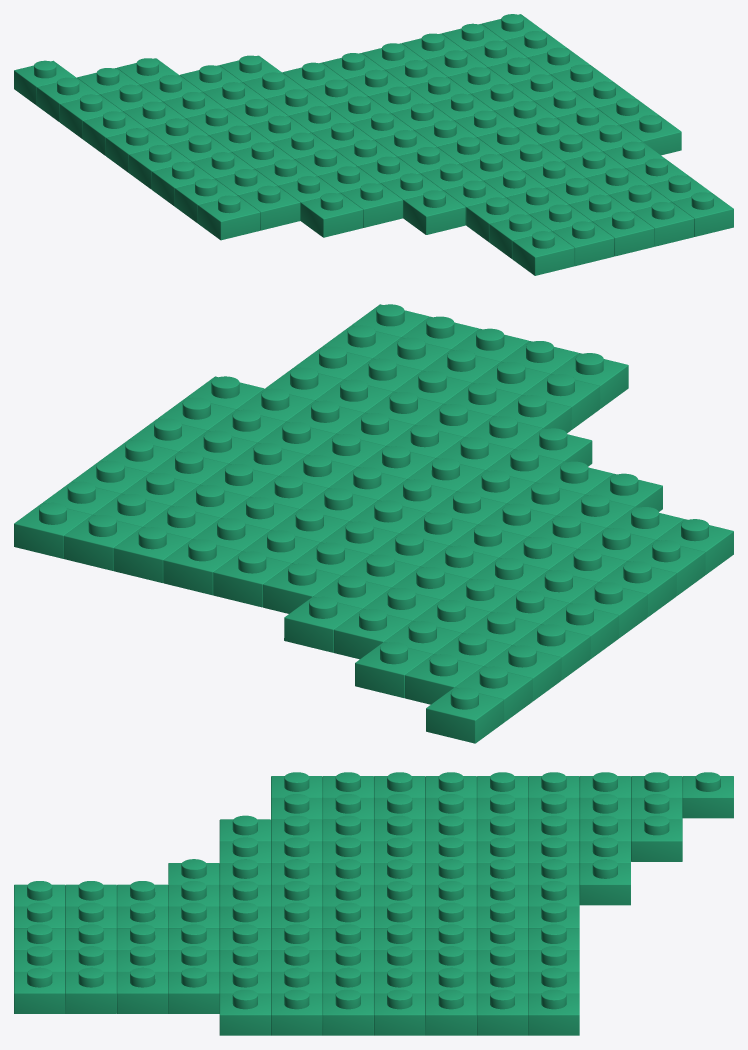
File: Ontario.fbx
The picture shows the model from 3 angles, top to bottom: view 1: azimuth 30°, elevation 25°; view 2: azimuth 150°, elevation 25°; view 3: azimuth 270°, elevation 25°; orthographic projection. The views are drawn at different scales.
Parts seen in each view (by area): view 1: Cylinder_18; view 2: Cylinder_18; view 3: Cylinder_18.
Part boxes in pixels (x1=…): Cylinder_18: x1=14, y1=14, x2=733, y2=275; Cylinder_18: x1=14, y1=304, x2=733, y2=743; Cylinder_18: x1=14, y1=772, x2=733, y2=1035.
Bounding box in the file's own units: 1100 × 65.03 × 1400.
